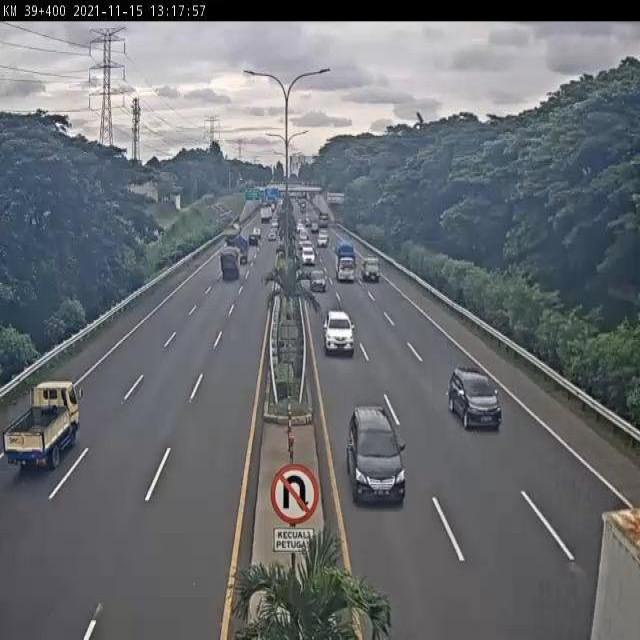car: (346, 404, 409, 505), (447, 366, 502, 434), (323, 309, 355, 356), (362, 255, 382, 282), (308, 270, 327, 294)
truck-m-: (333, 238, 357, 286), (220, 244, 241, 280)
truck-s-: (3, 382, 80, 467)
